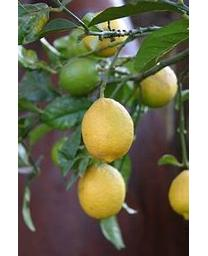lemon: (83, 98, 135, 164), (76, 162, 125, 219), (59, 56, 104, 97), (136, 61, 176, 107), (170, 169, 190, 219)
